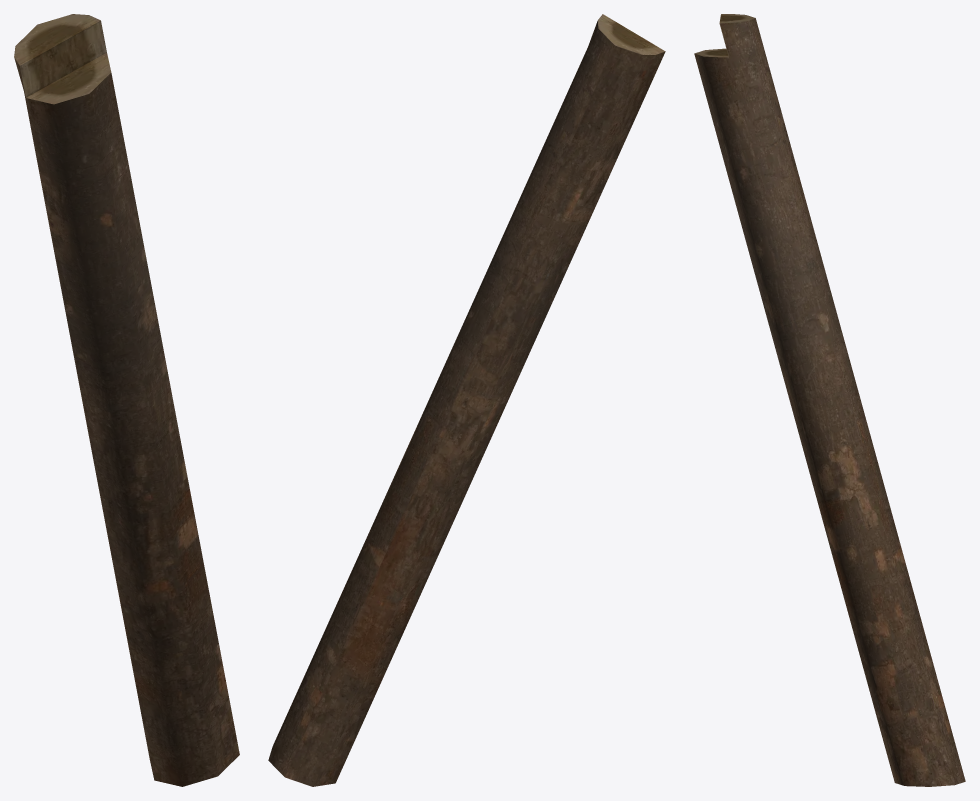
The picture shows the model from 3 angles, left to right: view 1: azimuth 30°, elevation 25°; view 2: azimuth 150°, elevation 25°; view 3: azimuth 270°, elevation 25°; orthographic projection. The views are drawn at different scales.
Parts seen in each view (by area): view 1: TS_Lo_L; view 2: TS_Lo_L; view 3: TS_Lo_L.
Boxes of the visible parts, <box> form: TS_Lo_L: <box>14,14,239,786</box>; TS_Lo_L: <box>268,14,665,786</box>; TS_Lo_L: <box>694,14,965,786</box>.
Bounding box in the file's own units: 0.8657 × 2.12 × 0.7653.
1 material, 1 textured.
